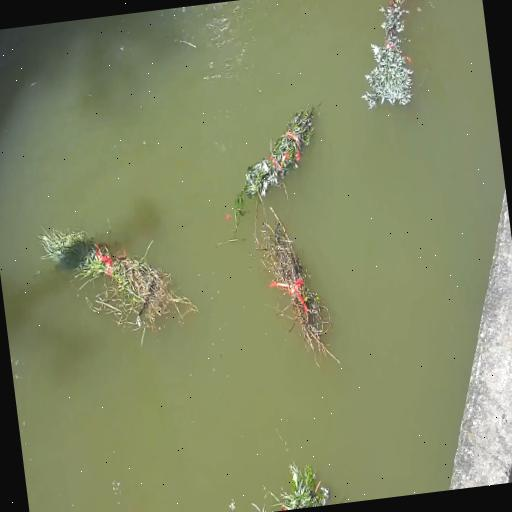twig: (39, 227, 199, 345), (255, 208, 339, 362), (235, 105, 314, 227), (252, 464, 330, 511)
